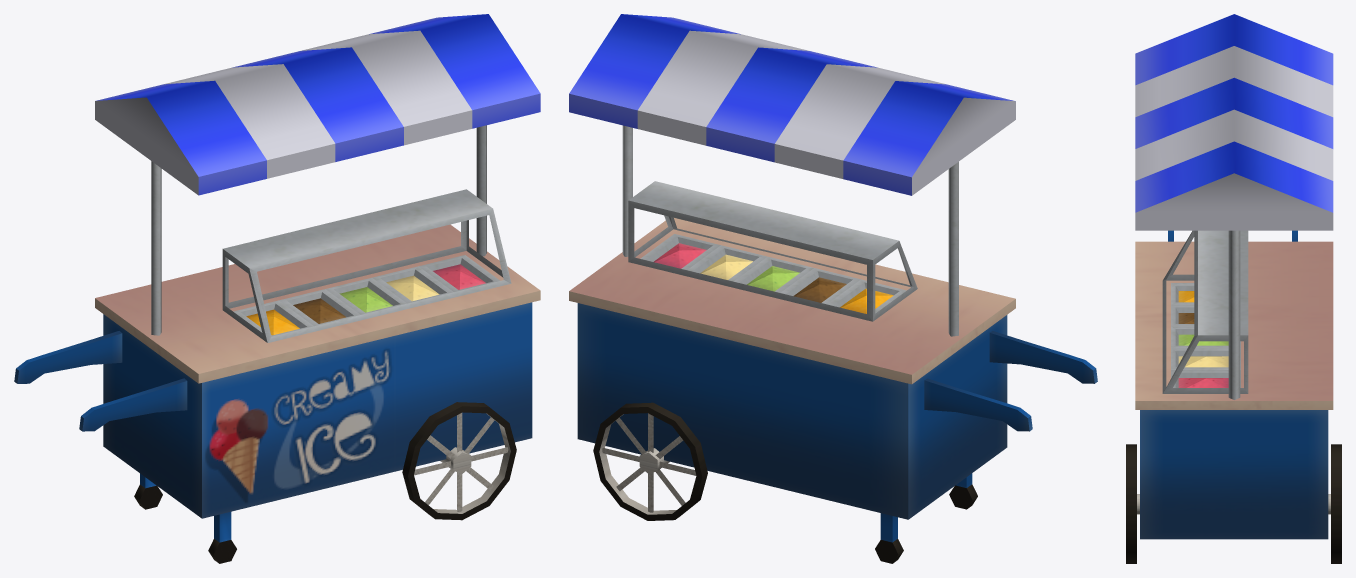
Rendered from IceCream_Cart.fbx.
3 views of the same model, side by side, from view 1: azimuth 30°, elevation 25°; view 2: azimuth 150°, elevation 25°; view 3: azimuth 270°, elevation 25° (orthographic). The views are drawn at different scales.
Visible parts, largest first — view 1: IceCream_Cart; view 2: IceCream_Cart; view 3: IceCream_Cart.
Part boxes in pixels (x1,y1,x2,y2): IceCream_Cart: (14,14,540,563); IceCream_Cart: (569,14,1097,563); IceCream_Cart: (1126,14,1341,563).
Size of the model in its own units: 0.7858 by 0.7568 by 0.3488.
